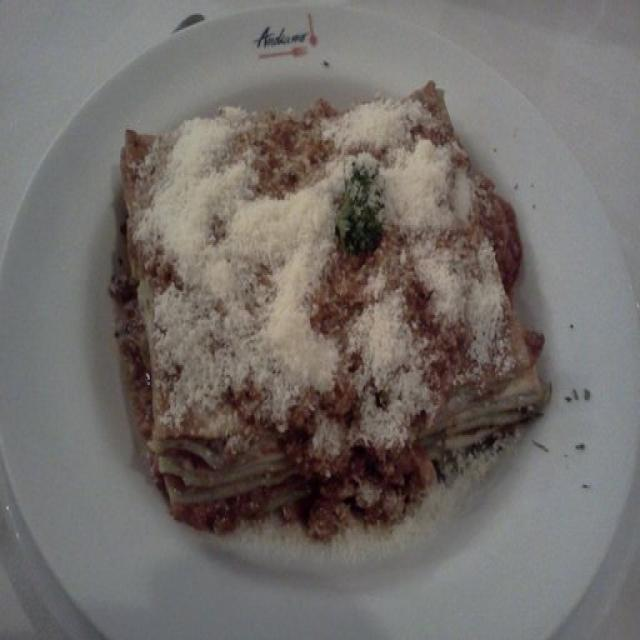Lasagna: (93, 80, 545, 502)
